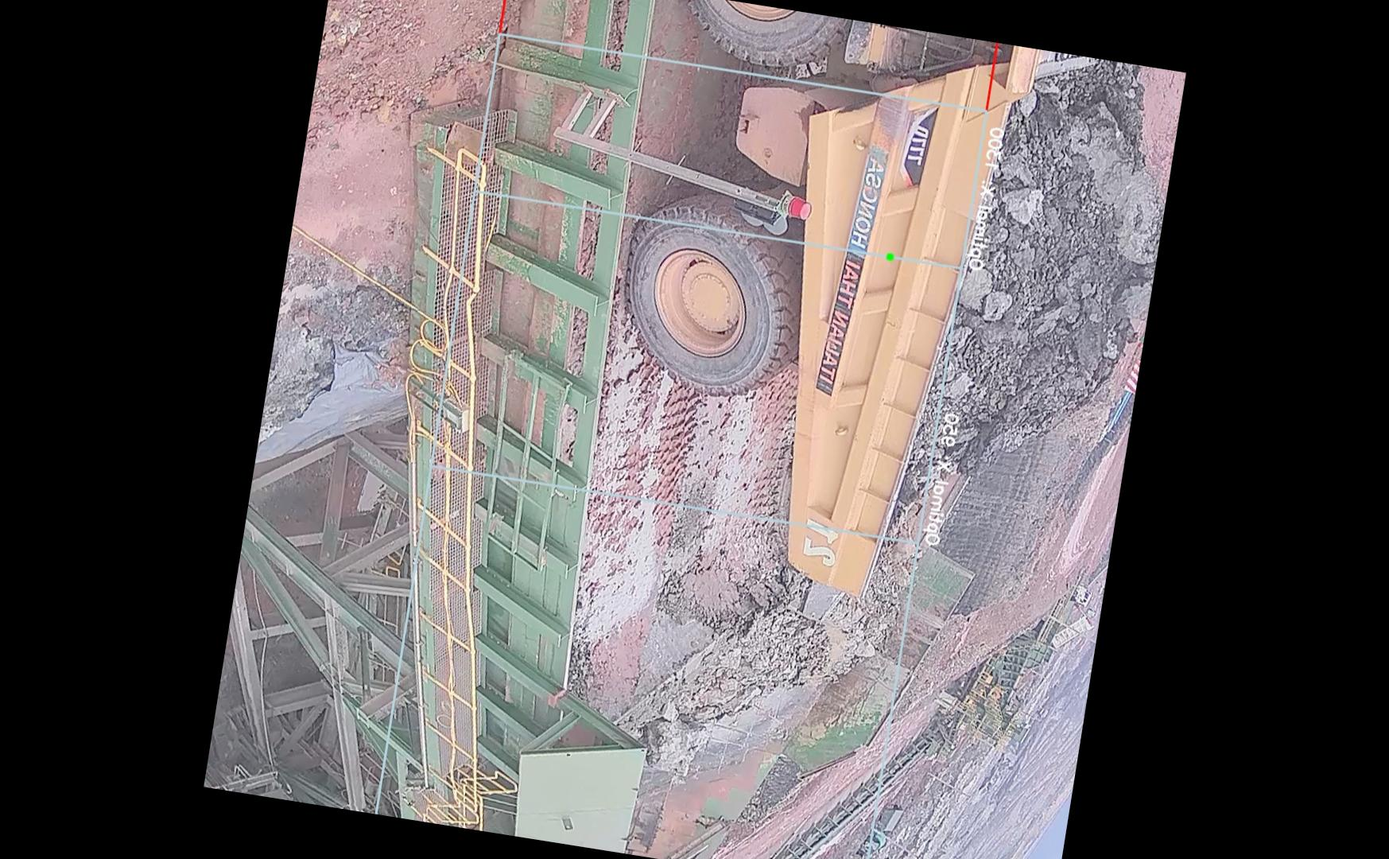company: (808, 130, 908, 407)
full_load: (949, 64, 1172, 461)
mining_truck: (570, 0, 1181, 650)
tail_number: (790, 507, 846, 571)
truck_size: (898, 116, 943, 176)
